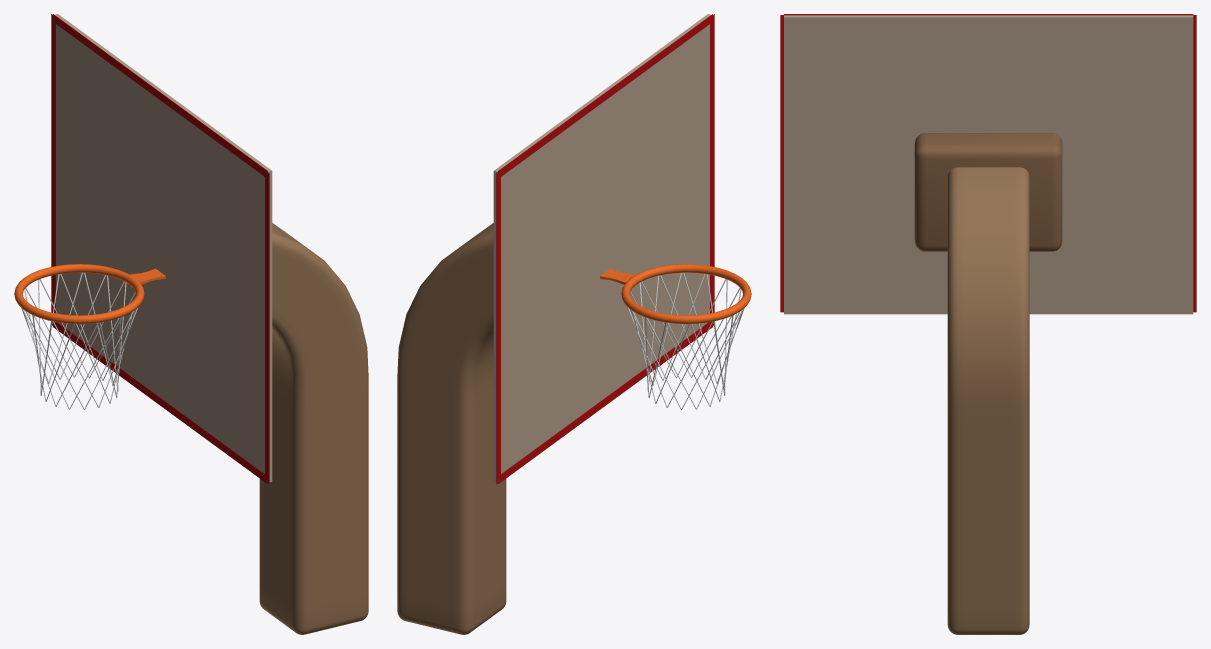
The model's file is bascket-00.fbx.
3 renders of one model, left to right at view 1: azimuth 30°, elevation 25°; view 2: azimuth 150°, elevation 25°; view 3: azimuth 270°, elevation 25°, orthographic. The views are drawn at different scales.
Visible parts, largest first — view 1: Cube_1, Cube_11, Torus, Cube_6, Cube_8, Cube_9, Cube_10; view 2: Cube_1, Cube_11, Torus, Cube_6, Cube_8, Cube_10, Cube_9; view 3: Cube_1, Cube_11, Cube_12, Cube_9, Cube_10, Cube_6.
Boxes of the visible parts, x1,y1,x2,y2 form: Cube_1: [55, 14, 272, 482]; Cube_11: [259, 223, 368, 634]; Torus: [14, 264, 144, 323]; Cube_6: [53, 14, 267, 178]; Cube_8: [53, 322, 267, 483]; Cube_9: [265, 172, 269, 484]; Cube_10: [51, 14, 55, 327]; Cube_1: [493, 14, 710, 482]; Cube_11: [397, 223, 506, 634]; Torus: [621, 264, 751, 323]; Cube_6: [498, 14, 712, 177]; Cube_8: [498, 321, 712, 483]; Cube_10: [496, 171, 500, 484]; Cube_9: [710, 14, 714, 325]; Cube_1: [784, 15, 1193, 314]; Cube_11: [947, 167, 1029, 634]; Cube_12: [914, 133, 1062, 251]; Cube_9: [780, 15, 783, 312]; Cube_10: [1193, 15, 1196, 312]; Cube_6: [784, 14, 1193, 15].
Size of the model in its own units: 884 by 1442 by 1016.
